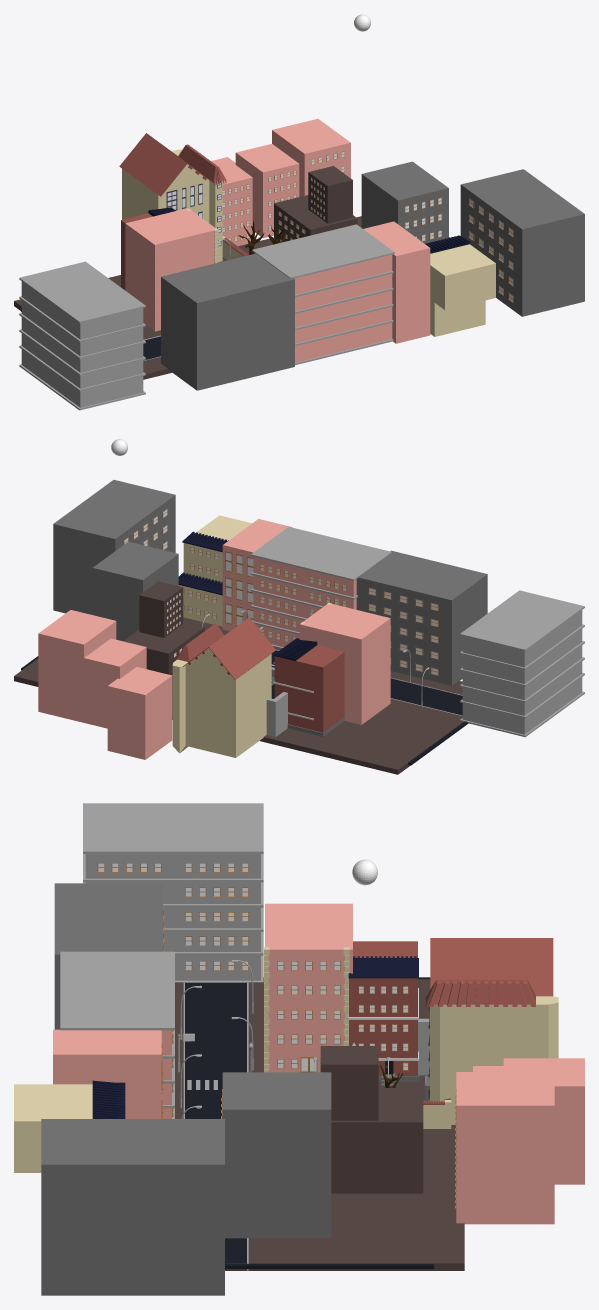
Rendered from ville_2.glb.
3 renders of one model, top to bottom at view 1: azimuth 30°, elevation 25°; view 2: azimuth 150°, elevation 25°; view 3: azimuth 270°, elevation 25°, orthographic. The views are drawn at different scales.
Parts seen in each view (by area): view 1: 1_bloc_6, 4_bloc_7, etage_6, 3_bloc_6, bloc_4, 2_bloc_6, cube 1, 3_bloc_7, 1_bloc_7, 2_bloc_7, bloc_5, bloc_3 (+7 smaller); view 2: bloc_4, etage_6, 1_bloc_6, 4_bloc_7, 3_bloc_6, bloc_3, sol, cube 1, 3_bloc_7, cube 2, 2_bloc_6, bloc_5 (+12 smaller); view 3: 4_bloc_7, etage_6, bloc_4, 3_bloc_7, sol, bloc_5, cube 1, 3_bloc_6, route, bloc_3, 1_bloc_6, 2_bloc_7 (+16 smaller).
Boxes of the visible parts, x1,y1,x2,y2 form: 1_bloc_6: (161, 253, 294, 390); 4_bloc_7: (460, 169, 584, 316); etage_6: (19, 224, 394, 410); 3_bloc_6: (21, 281, 143, 407); bloc_4: (211, 118, 350, 246); 2_bloc_6: (294, 254, 392, 362); cube 1: (125, 208, 215, 331); 3_bloc_7: (361, 161, 448, 243); 1_bloc_7: (430, 244, 495, 336); 2_bloc_7: (363, 221, 430, 343); bloc_5: (274, 166, 357, 241); bloc_3: (122, 149, 222, 262); bloc_4: (38, 610, 172, 759); etage_6: (251, 527, 584, 737); 1_bloc_6: (356, 550, 487, 685); 4_bloc_7: (53, 480, 175, 614); 3_bloc_6: (462, 610, 582, 734); bloc_3: (172, 648, 271, 757); sol: (14, 617, 463, 774); cube 1: (299, 604, 390, 724); 3_bloc_7: (92, 541, 178, 641); cube 2: (274, 645, 344, 732); 2_bloc_6: (253, 556, 356, 647); bloc_5: (123, 581, 204, 697); 4_bloc_7: (41, 1119, 224, 1295); etage_6: (60, 803, 263, 1118); bloc_4: (456, 1058, 584, 1224); 3_bloc_7: (222, 1072, 331, 1238); sol: (175, 979, 464, 1270); bloc_5: (320, 1046, 423, 1193); cube 1: (265, 903, 352, 1072); 3_bloc_6: (85, 854, 260, 980); route: (185, 977, 434, 1268); bloc_3: (430, 996, 558, 1124); 1_bloc_6: (54, 883, 162, 1029); 2_bloc_7: (53, 1029, 161, 1118).
Size of the model in its own units: 78.7 by 37.69 by 52.93.
